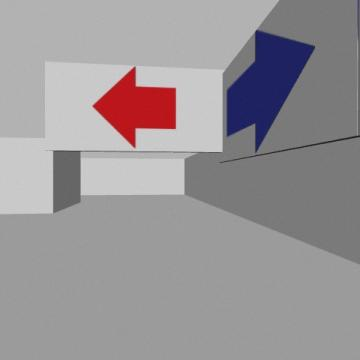blue_right: (227, 31, 314, 152)
red_left: (93, 67, 176, 147)
